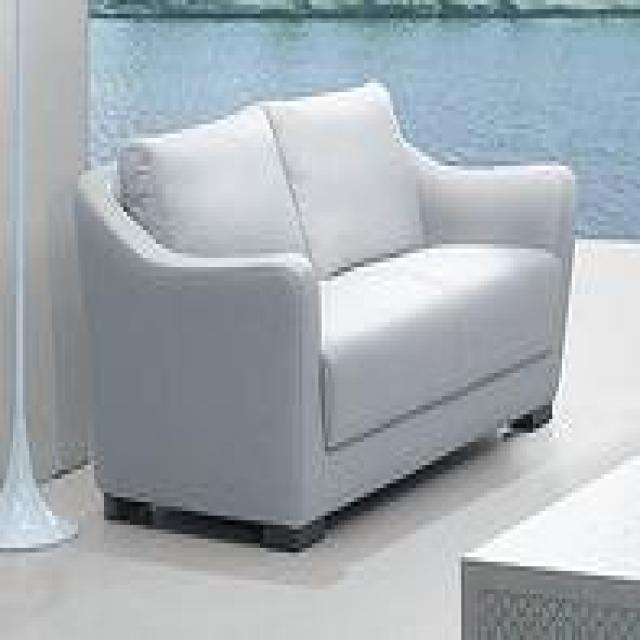sofa: (72, 80, 577, 548)
